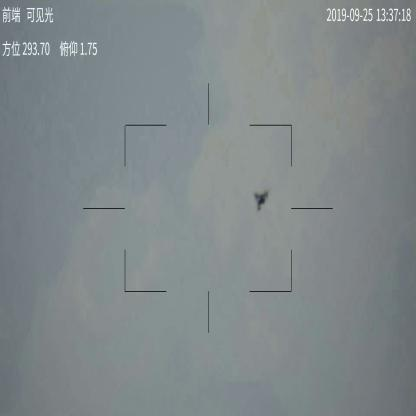uav: (252, 190, 271, 212)
